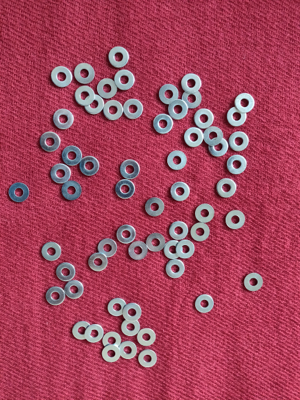circle: (71, 60, 97, 86), (107, 43, 133, 69), (111, 67, 137, 93), (95, 76, 121, 102), (72, 82, 98, 108), (81, 91, 107, 117), (100, 97, 126, 123), (121, 96, 147, 122), (52, 106, 78, 132), (38, 127, 64, 153), (60, 144, 86, 170), (76, 153, 102, 179), (47, 161, 73, 187), (59, 178, 85, 204), (6, 180, 32, 206), (113, 178, 139, 204), (116, 156, 142, 182), (164, 148, 190, 174), (167, 178, 193, 204), (142, 194, 168, 220), (114, 222, 140, 248), (95, 235, 121, 261), (39, 239, 65, 265), (124, 238, 150, 264), (142, 231, 168, 257), (162, 257, 188, 283), (160, 238, 186, 264), (172, 237, 198, 263), (165, 219, 191, 245), (187, 221, 213, 247), (192, 202, 218, 228), (223, 209, 249, 235), (214, 176, 240, 202), (224, 153, 250, 179), (228, 131, 254, 157), (206, 135, 232, 161), (201, 126, 227, 152), (182, 125, 208, 151), (150, 112, 176, 138), (166, 98, 192, 124), (157, 81, 183, 107), (224, 104, 250, 130), (231, 91, 257, 117), (86, 249, 112, 274), (54, 260, 78, 285), (63, 278, 87, 303), (43, 284, 68, 308), (181, 86, 205, 111), (192, 106, 216, 131), (179, 71, 203, 95), (49, 65, 74, 88), (242, 271, 265, 296), (194, 292, 217, 316), (84, 323, 107, 345), (71, 319, 94, 341), (101, 343, 124, 365), (117, 341, 140, 363), (137, 349, 160, 371), (106, 297, 128, 319), (122, 301, 144, 323), (120, 317, 142, 339), (102, 330, 124, 352), (137, 326, 159, 348)
